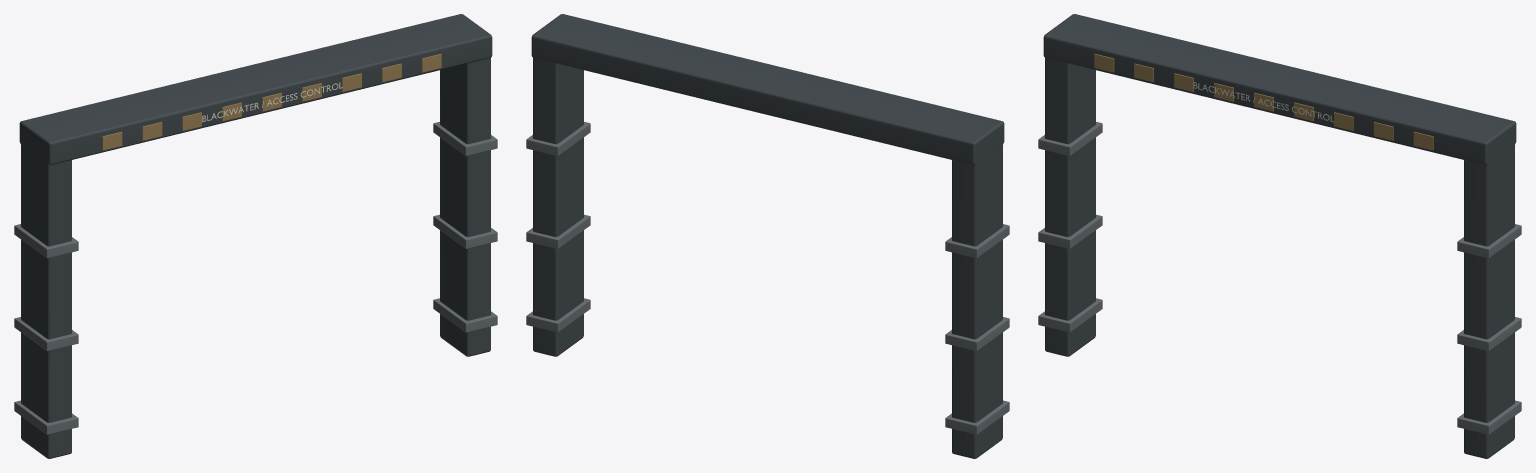
Rendered from map-gate-frame.glb.
3 renders of one model, left to right at view 1: azimuth 30°, elevation 25°; view 2: azimuth 150°, elevation 25°; view 3: azimuth 330°, elevation 25°, orthographic.
Visible parts, largest first — view 1: map-gate-frame; view 2: map-gate-frame; view 3: map-gate-frame.
Boxes of the visible parts, x1,y1,x2,y2 form: map-gate-frame: (14, 14, 497, 458); map-gate-frame: (526, 14, 1009, 458); map-gate-frame: (1038, 14, 1521, 458).
Size of the model in its own units: 5.08 by 3.42 by 0.6403.
